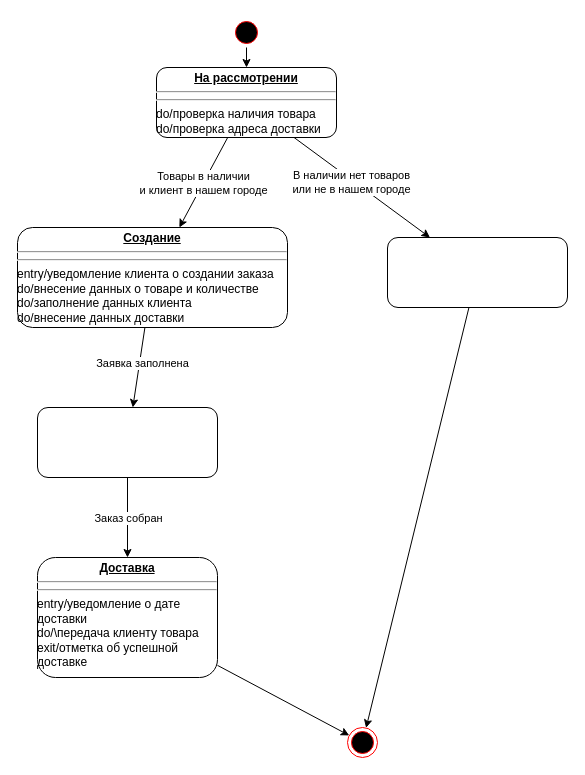
This 585x775 diagram has some shape labels left out. Here are the shapes that lost their labels. From the top down, the box of each, then its label:
(386, 236, 568, 308): Отклонена entry/уведомление клиента
(36, 406, 218, 478): Сборка do/сборка заказа do/поиск свободного курьера
